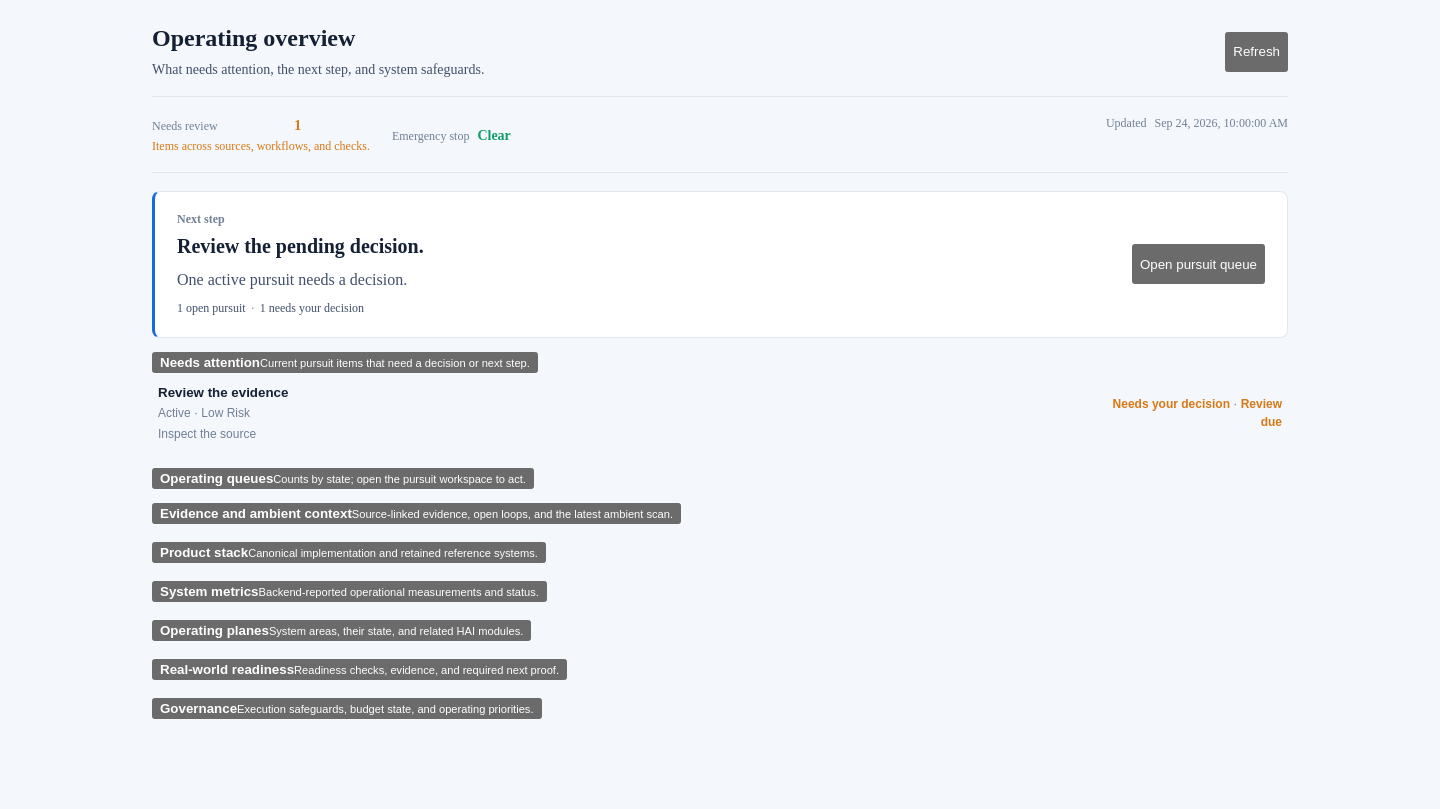
it: HAIOSComponent progressive control room › shows plain, truthful empty states when Advanced collections contain no records
Click the button with class "hai-progressive-section__summary" that starts with "Operating queues": (343, 479) top-left (152, 468), bottom-right (534, 489)
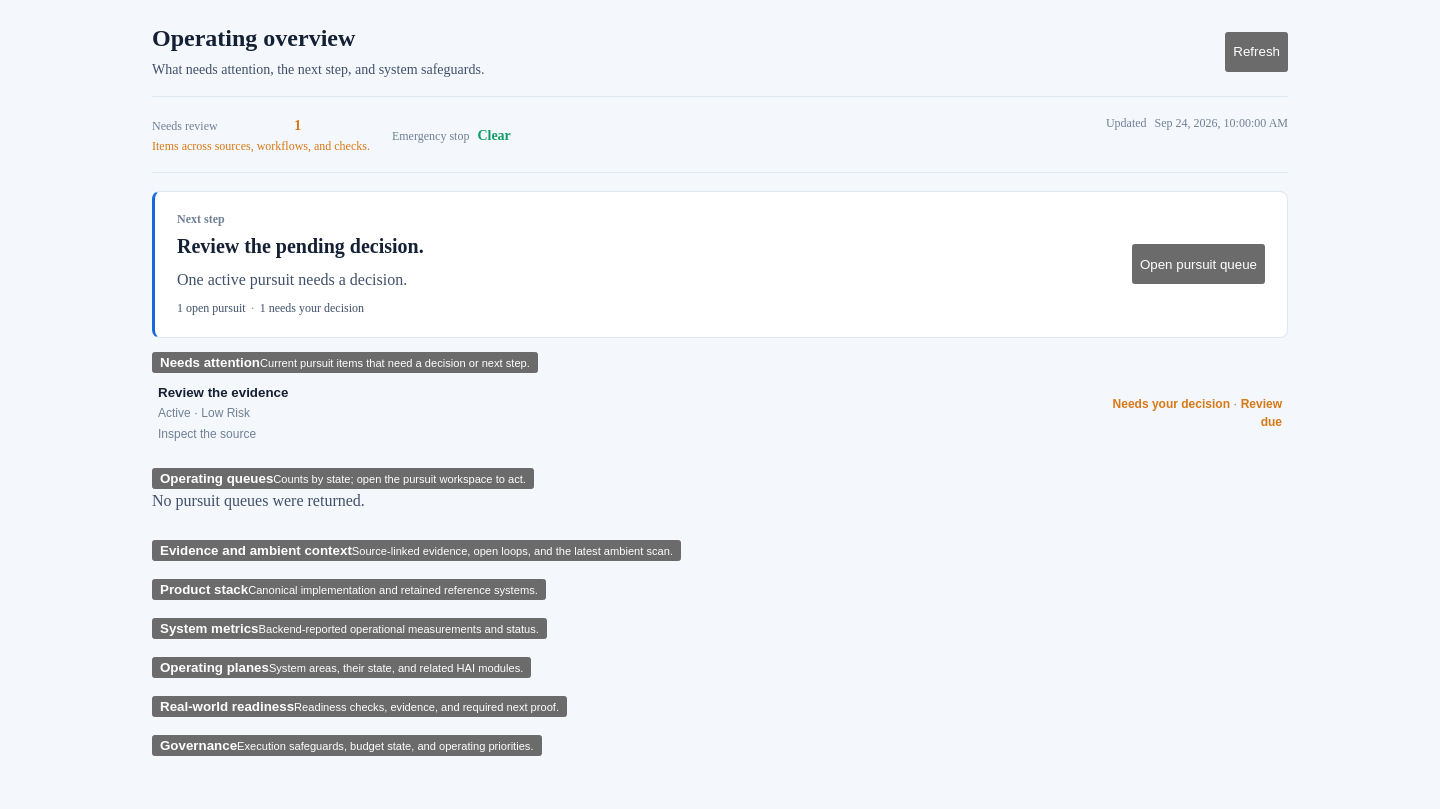
expect the message "No pursuit queues were returned." is shown: met, box top-left (152, 492), bottom-right (365, 509)
Click the button with class "hai-progressive-section__summary" that starts with "Product stack": (349, 590) top-left (152, 579), bottom-right (546, 600)
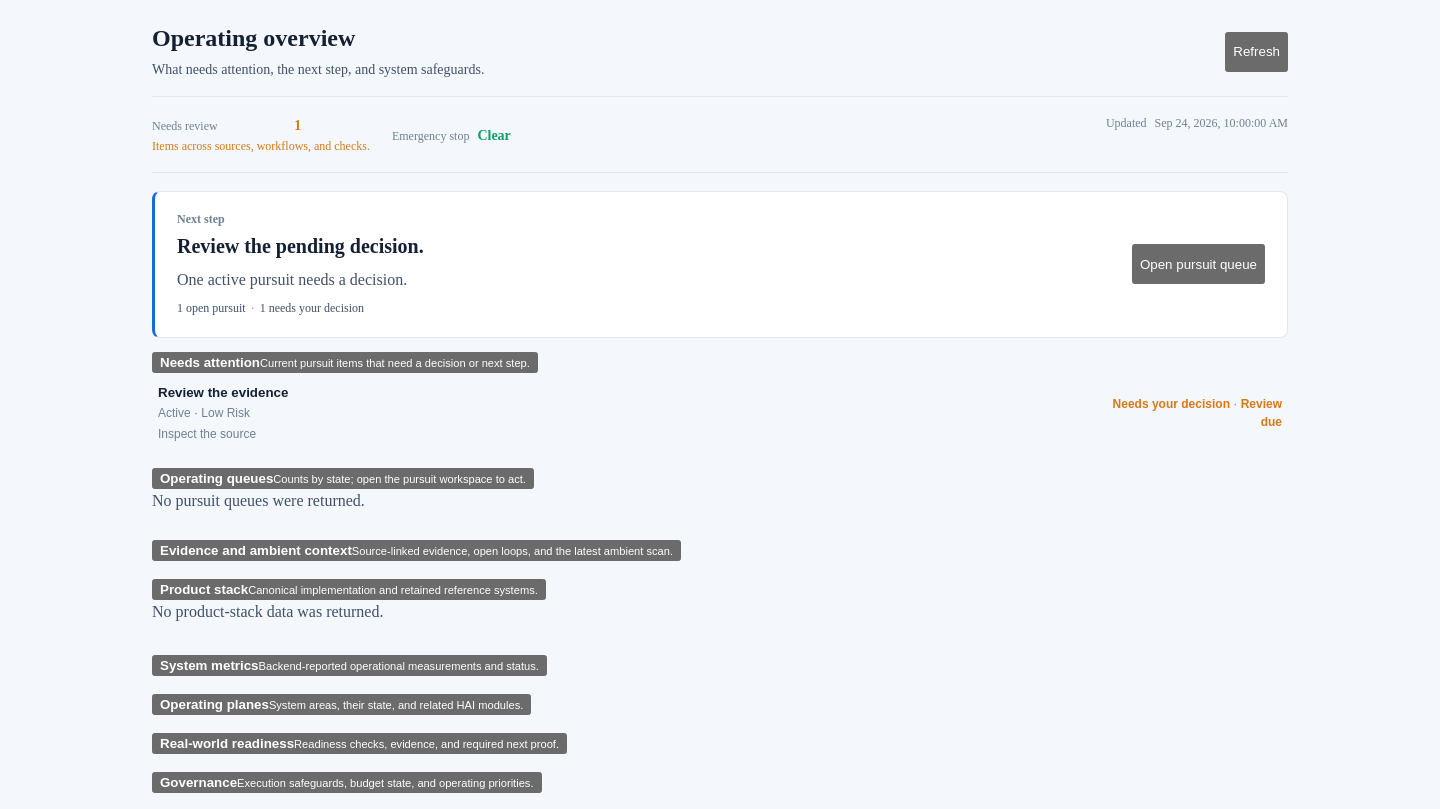
expect the message "No product-stack data was returned." is shown: met, box top-left (152, 603), bottom-right (384, 620)
Click the button with class "hai-progressive-section__summary" that starts with "System metrics": (349, 666) top-left (152, 655), bottom-right (547, 676)
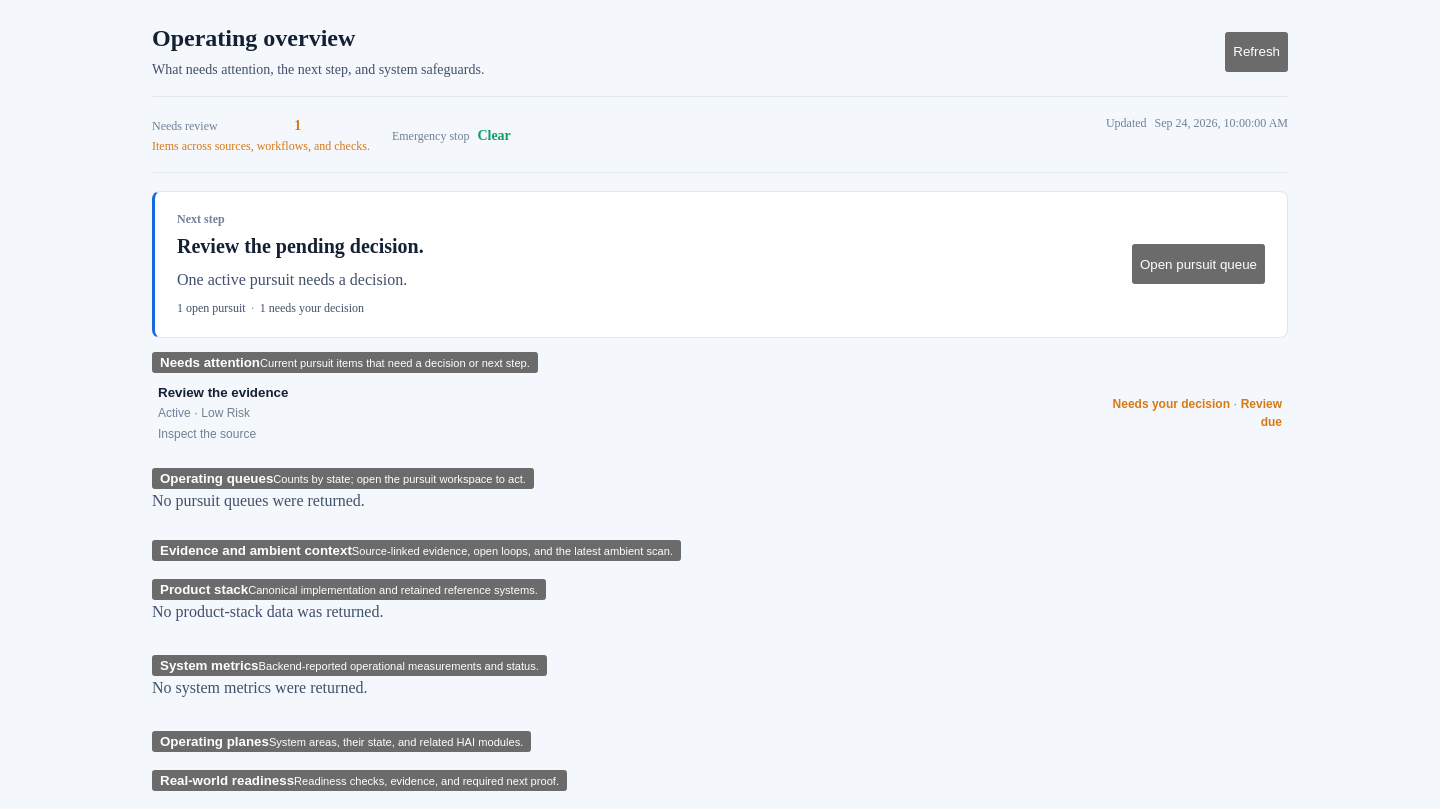
expect the message "No system metrics were returned." is shown: met, box top-left (152, 679), bottom-right (368, 696)
Click the button that starts with "Operating planes": (342, 741) top-left (152, 731), bottom-right (531, 752)
(page scrolled)
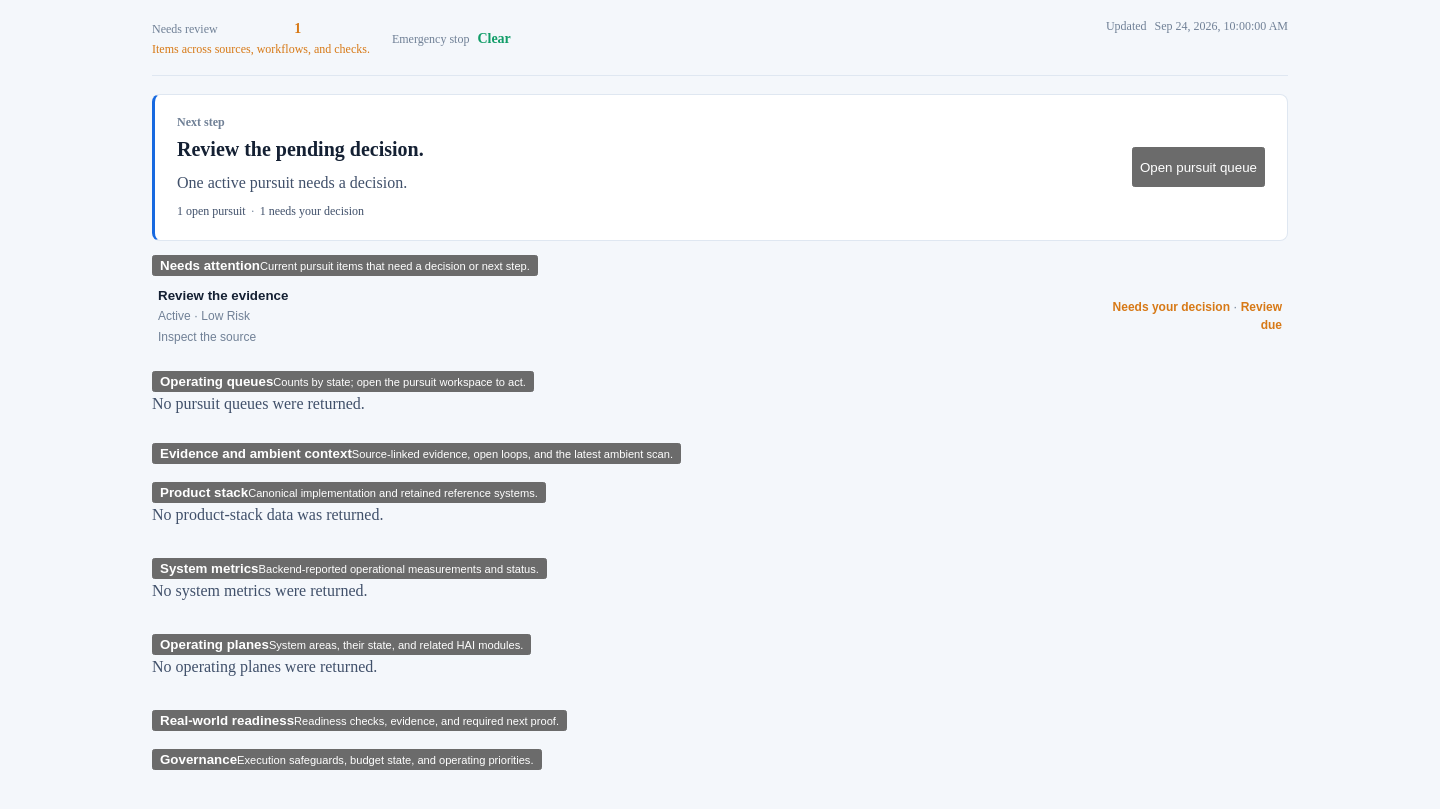
expect the message "No operating planes were returned." is shown: met, box top-left (152, 658), bottom-right (377, 675)
Click the button that starts with "Real-world readiness": (360, 720) top-left (152, 710), bottom-right (567, 731)
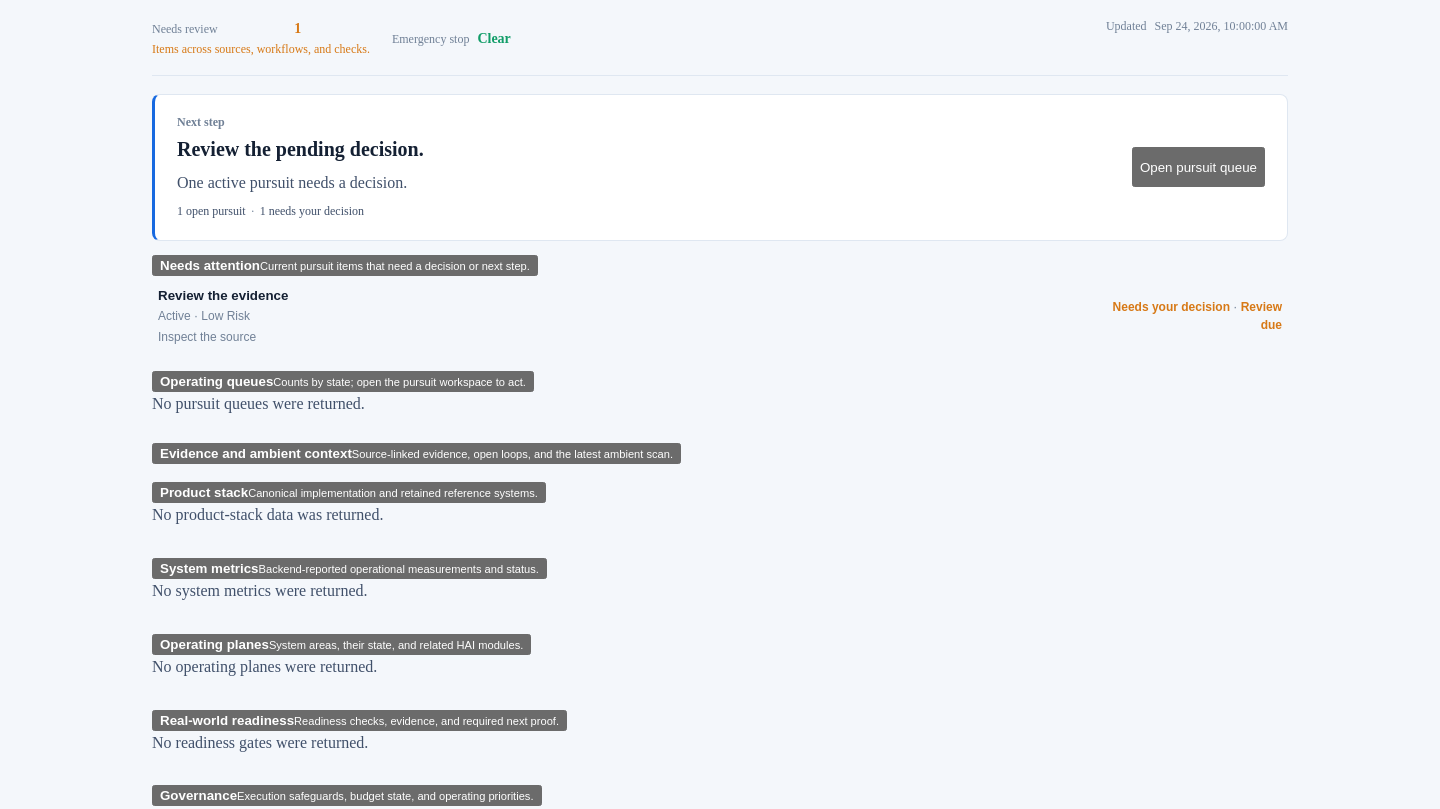
expect the message "No readiness gates were returned." is shown: met, box top-left (152, 734), bottom-right (368, 751)
